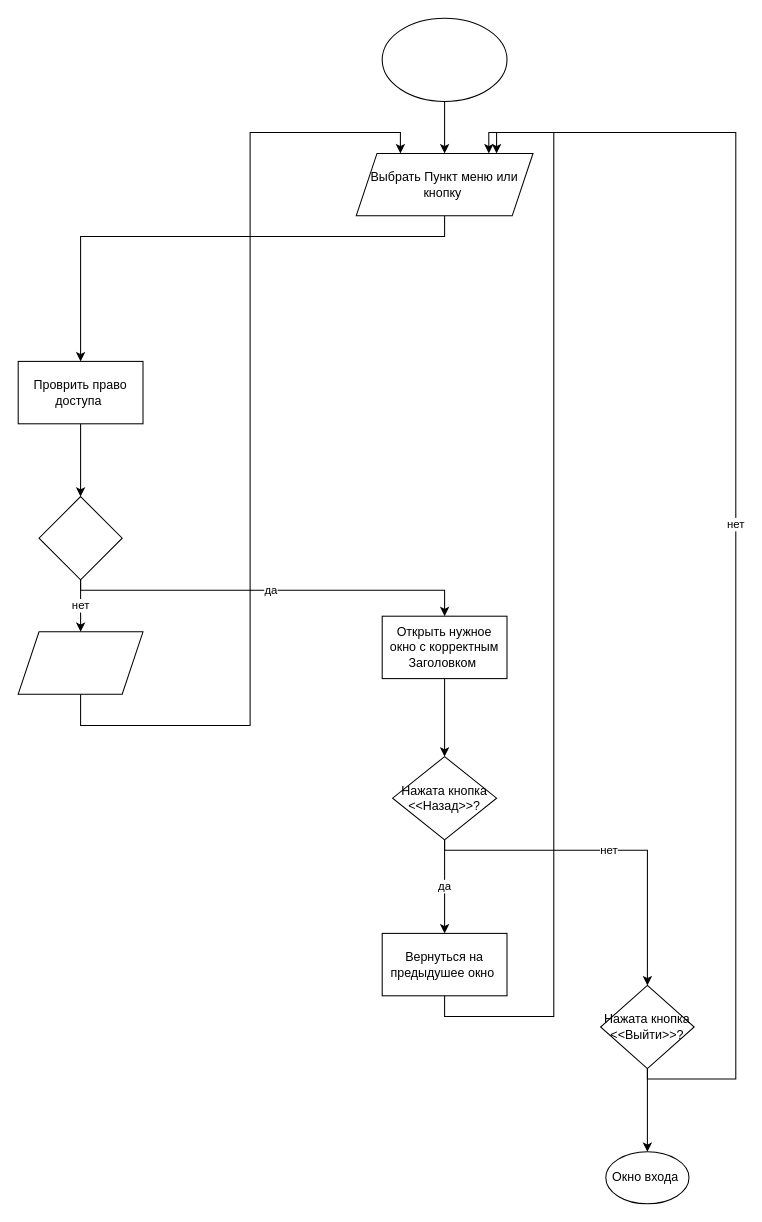
This 762x1222 diagram has some shape labels left out. Here are the shapes that lost their labels. From the top down, the box of each, then its label:
(381, 17, 507, 101): Пользователь в каталоге
(38, 496, 122, 580): Доступ разрешен?
(17, 631, 143, 694): Сообщить о запрете действие
